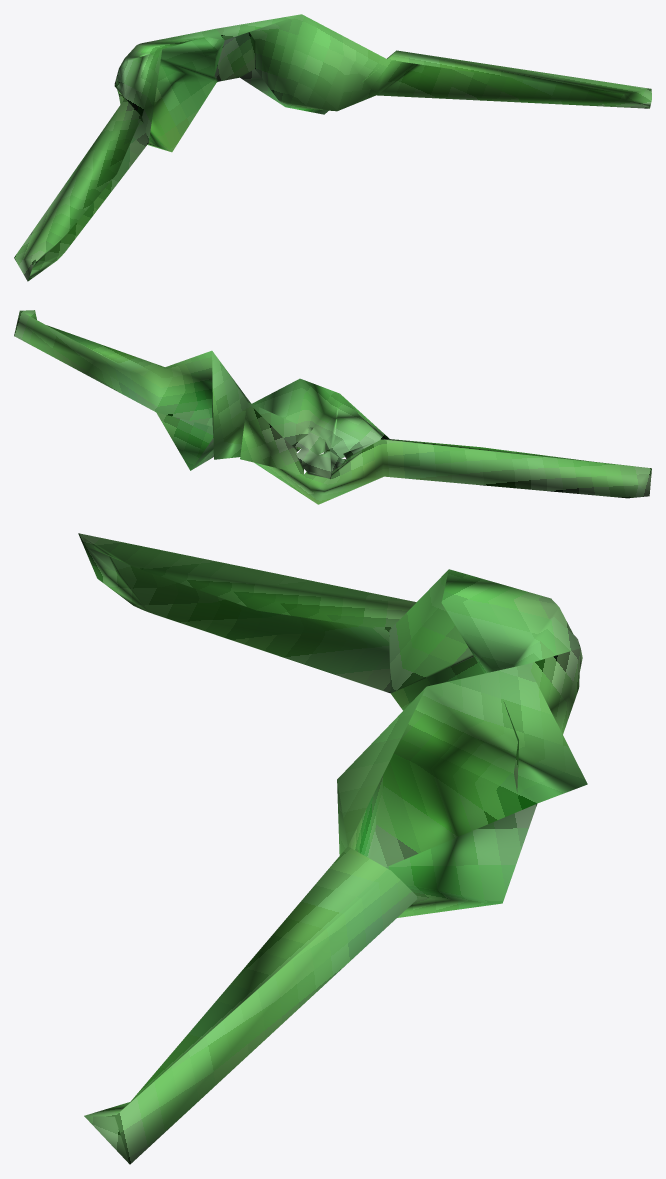
Rendered from Focus_8643_Lime_Squeezer_10x35x188_Enamelled_Aluminum_Light-low.glb.
3 views of the same model, one above another, from view 1: azimuth 30°, elevation 25°; view 2: azimuth 150°, elevation 25°; view 3: azimuth 270°, elevation 25° (orthographic). The views are drawn at different scales.
Visible parts, largest first — view 1: Focus_8643_Lime_Squeezer_10x35x188_Enamelled_Aluminum_Light; view 2: Focus_8643_Lime_Squeezer_10x35x188_Enamelled_Aluminum_Light; view 3: Focus_8643_Lime_Squeezer_10x35x188_Enamelled_Aluminum_Light.
Part boxes in pixels (x1,y1,x2,y2): Focus_8643_Lime_Squeezer_10x35x188_Enamelled_Aluminum_Light: [14, 14, 651, 281]; Focus_8643_Lime_Squeezer_10x35x188_Enamelled_Aluminum_Light: [14, 310, 651, 504]; Focus_8643_Lime_Squeezer_10x35x188_Enamelled_Aluminum_Light: [78, 533, 587, 1164].
Size of the model in its own units: 0.3344 by 0.0608 by 0.1176.
1 material, 1 textured.
